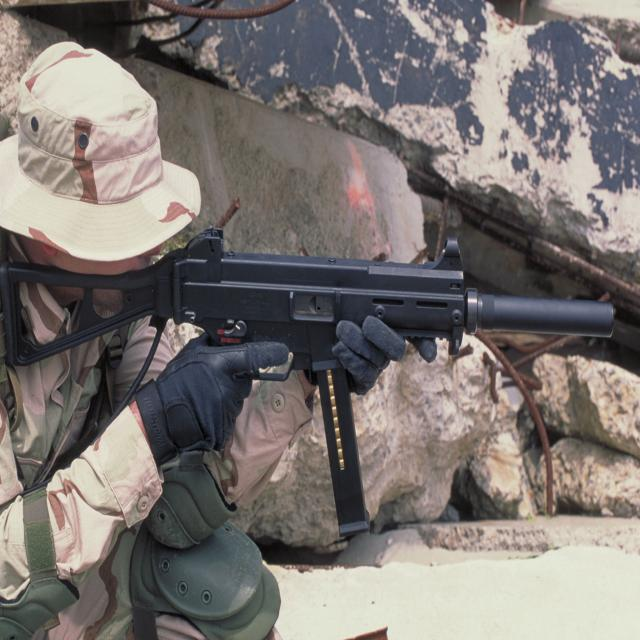SMG: (0, 229, 615, 539)
